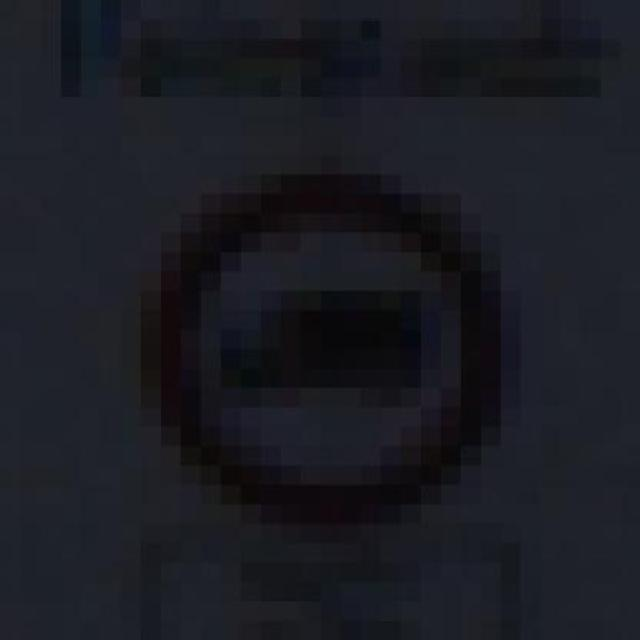Truck traffic is prohibited: (100, 135, 540, 543)
